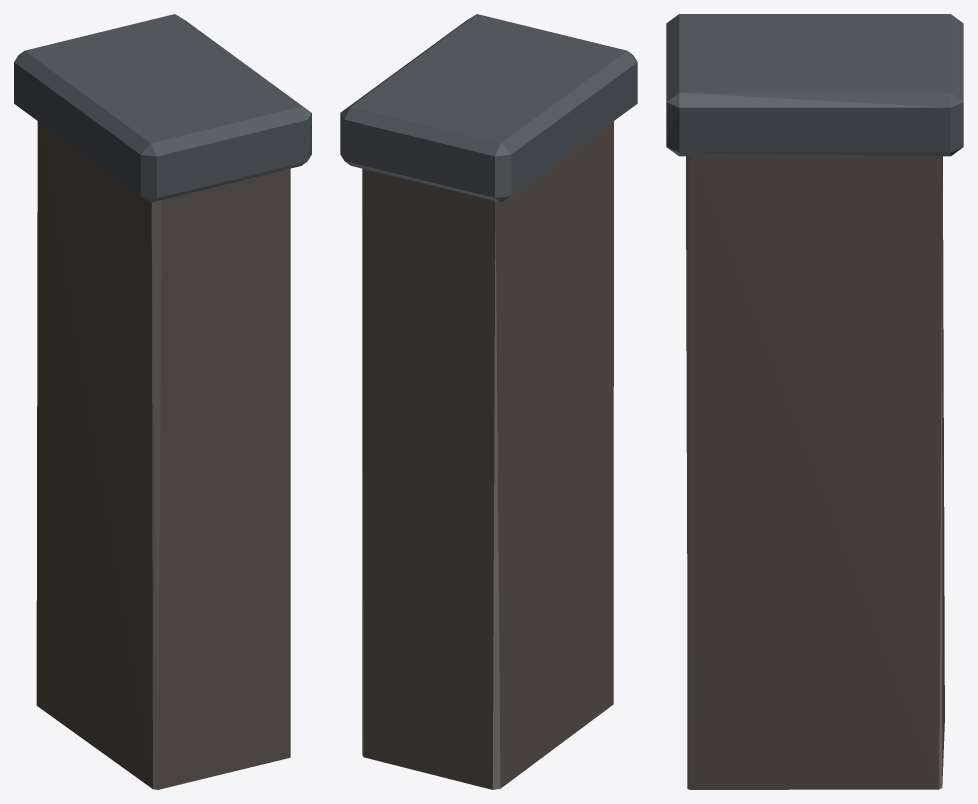
The model's file is MCastle_MasonryPillar_02.FBX.
The picture shows the model from 3 angles, left to right: view 1: azimuth 30°, elevation 25°; view 2: azimuth 150°, elevation 25°; view 3: azimuth 270°, elevation 25°; orthographic projection. The views are drawn at different scales.
Parts seen in each view (by area): view 1: MCastle_MasonryPillar_02_LOD0; view 2: MCastle_MasonryPillar_02_LOD0; view 3: MCastle_MasonryPillar_02_LOD0.
Part boxes in pixels (bbox=[...]): MCastle_MasonryPillar_02_LOD0: bbox=[14, 14, 311, 789]; MCastle_MasonryPillar_02_LOD0: bbox=[340, 14, 637, 789]; MCastle_MasonryPillar_02_LOD0: bbox=[666, 14, 963, 789].
Size of what is drawn, in the model's own units: 1.26 by 4.57 by 1.76.
